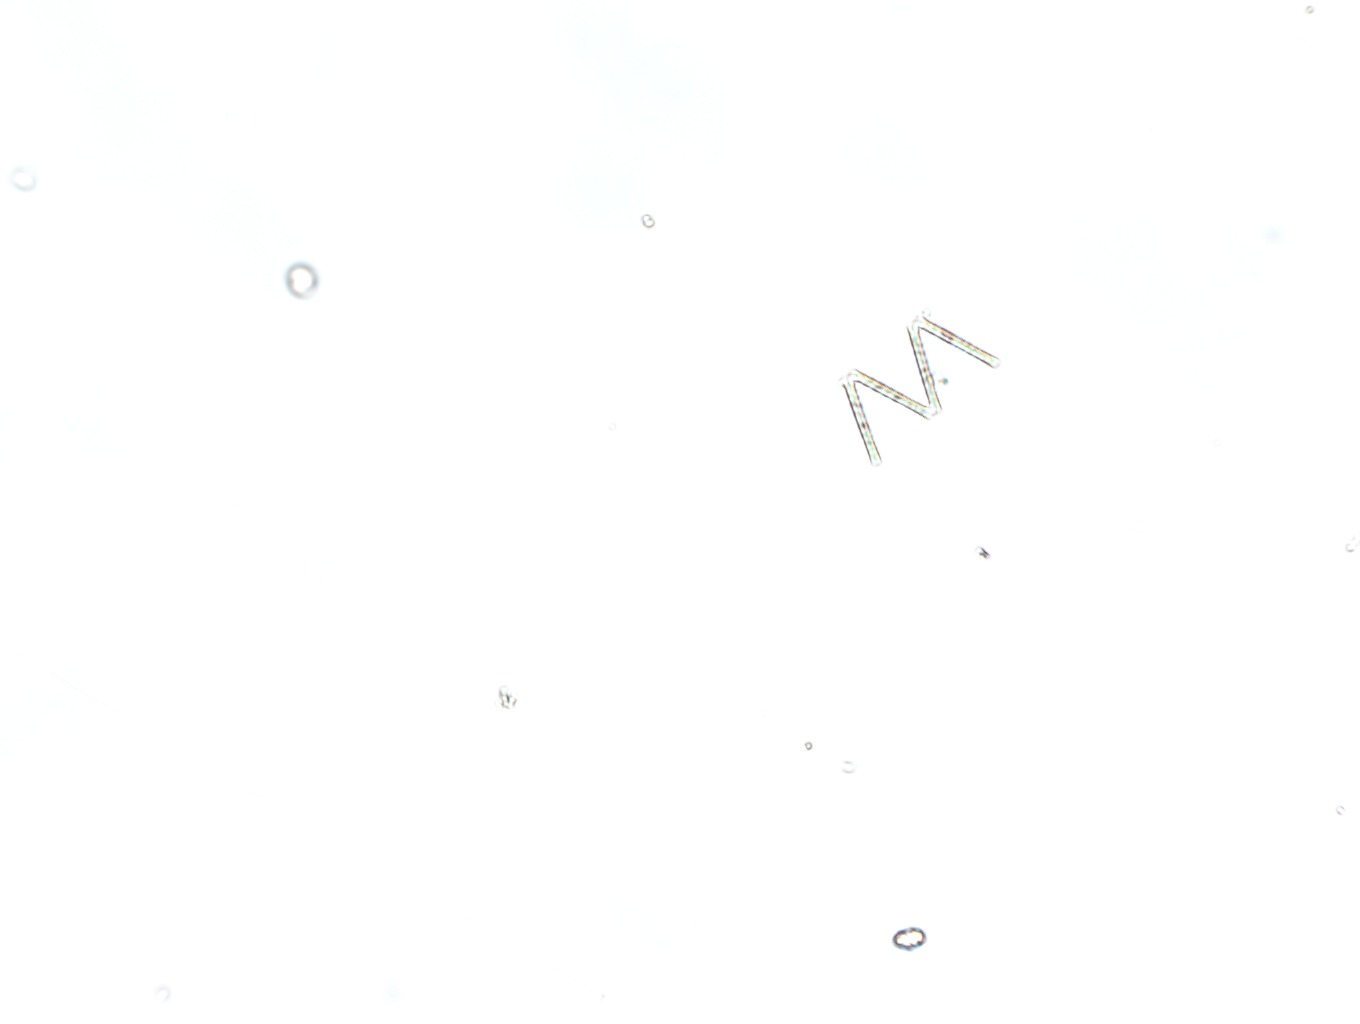thalassionema nitzschioides: (840, 313, 1002, 468)
